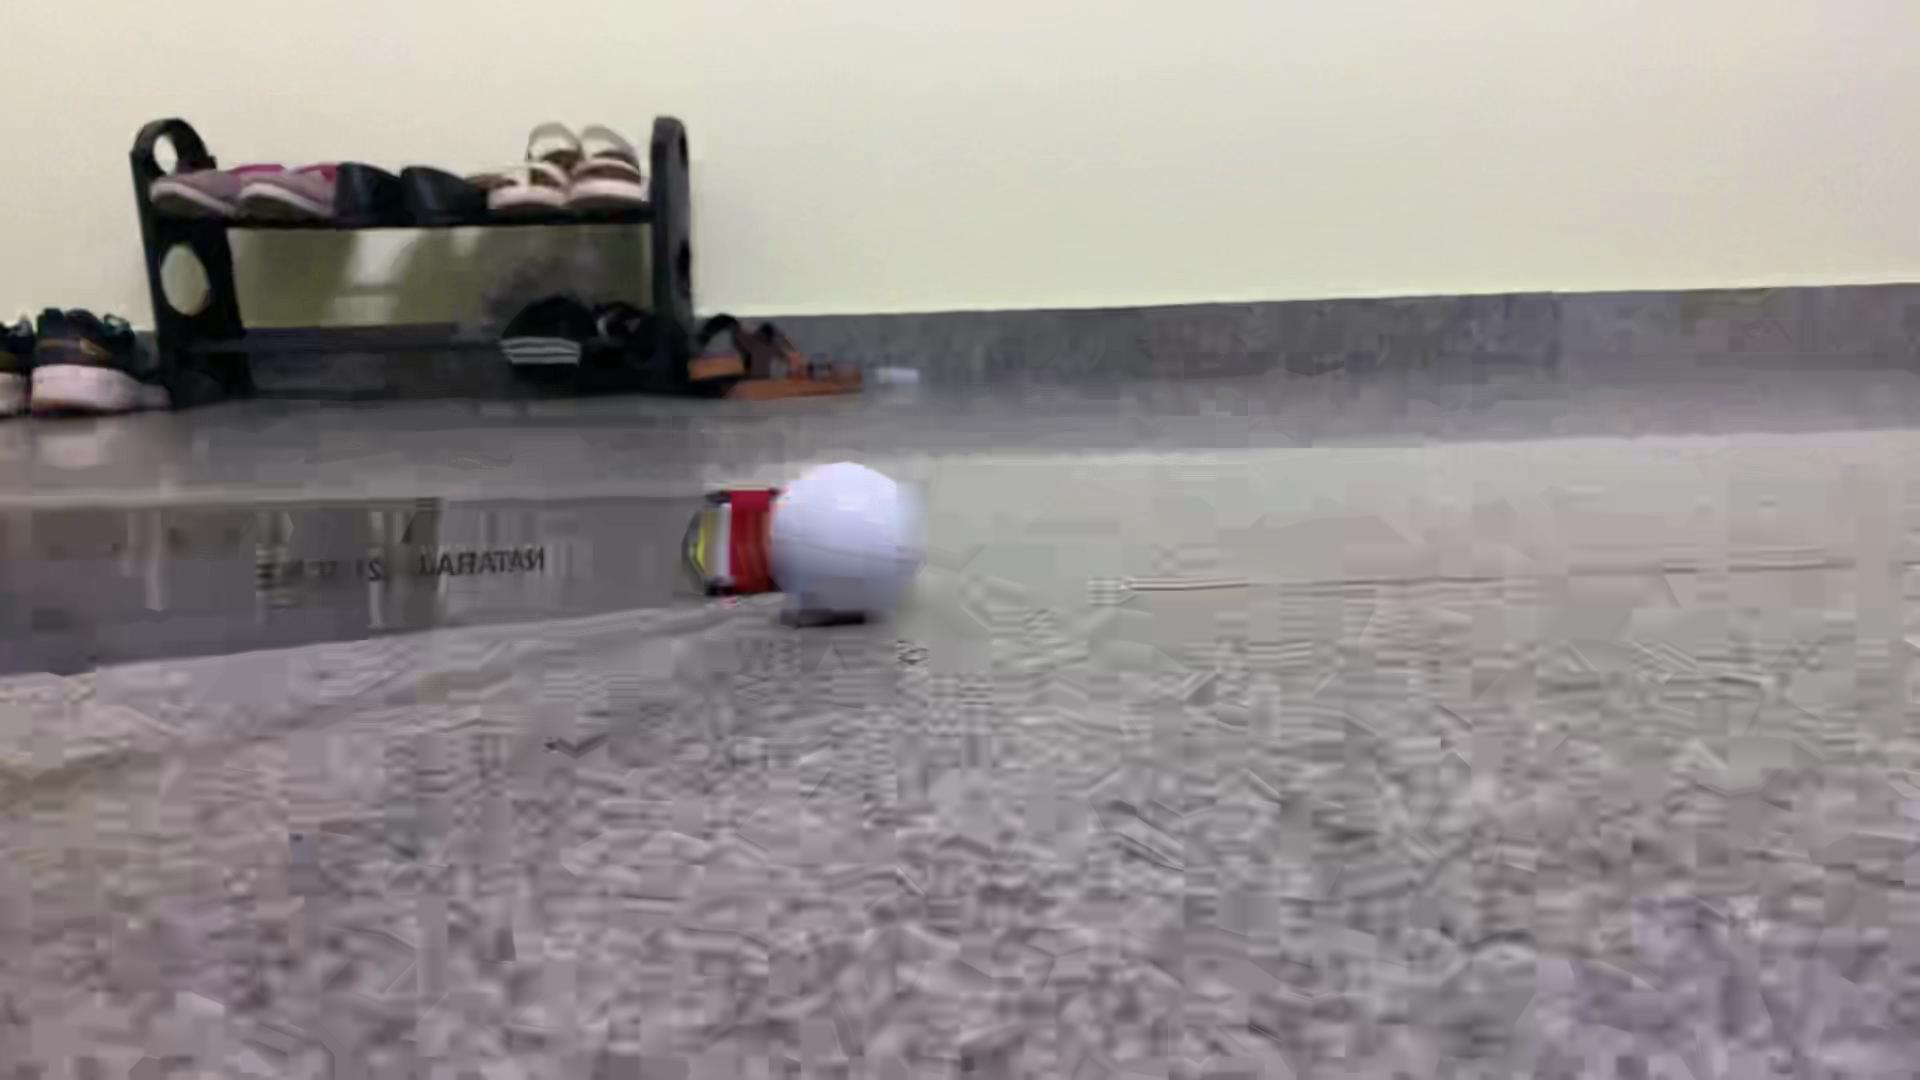golfball: (765, 464, 928, 617)
